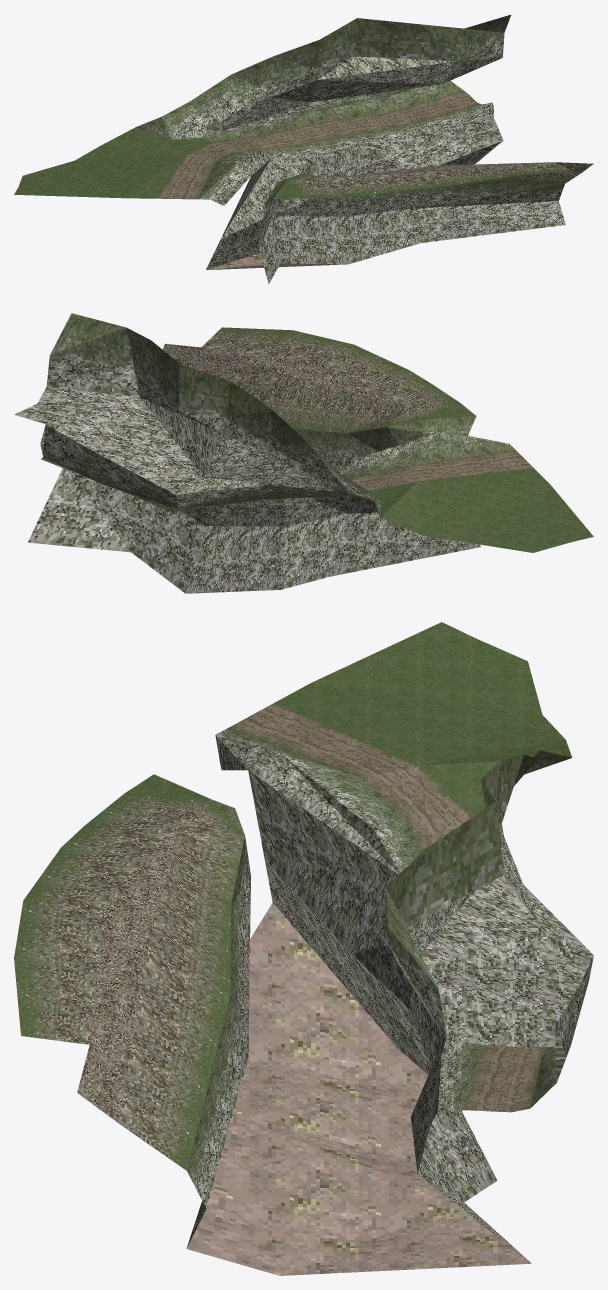
File: lodcunteground18.obj
3 views of the same model, one above another, from view 1: azimuth 30°, elevation 25°; view 2: azimuth 150°, elevation 25°; view 3: azimuth 270°, elevation 25° (orthographic). The views are drawn at different scales.
Parts seen in each view (by area): view 1: LODcuntEground18; view 2: LODcuntEground18; view 3: LODcuntEground18.
Part boxes in pixels (box(x1,y1,x2,y2)): LODcuntEground18: box(14, 14, 593, 283); LODcuntEground18: box(14, 313, 593, 593); LODcuntEground18: box(14, 622, 593, 1275).
Size of the model in its own units: 248 by 99.24 by 136.
Materials: 7 (7 with a texture image).
